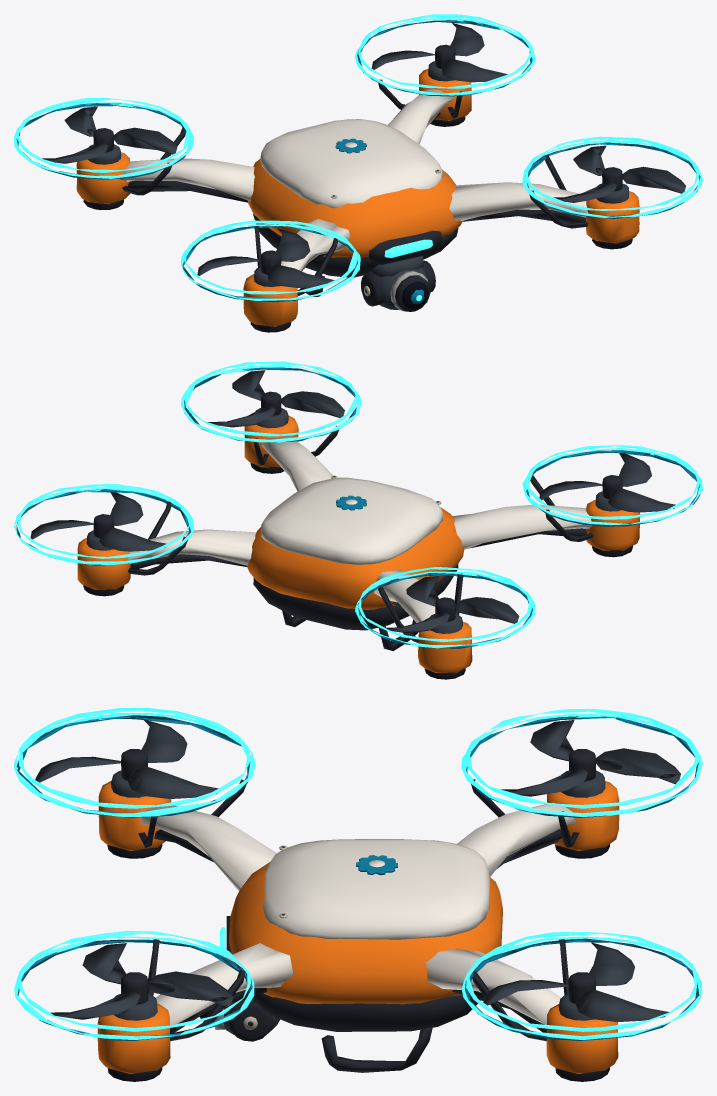
Rendered from drone.glb.
3 views of the same model, one above another, from view 1: azimuth 30°, elevation 25°; view 2: azimuth 150°, elevation 25°; view 3: azimuth 270°, elevation 25° (orthographic). The views are drawn at different scales.
Visible parts, largest first — view 1: Continuous hydroformed carbon spar, CNC orange motor case, Anodized lens mount, Cyan navigation focus, Blue anti-reflective objective, Twisted carbon-fiber rotor aerofoil.003, 3-axis camera pod, Twisted carbon-fiber rotor aerofoil.006, Twisted carbon-fiber rotor aerofoil, Twisted carbon-fiber rotor aerofoil.009; view 2: Continuous hydroformed carbon spar, CNC orange motor case, Cyan navigation focus, Anodized lens mount, Blue anti-reflective objective, Twisted carbon-fiber rotor aerofoil.003, Twisted carbon-fiber rotor aerofoil.006, Twisted carbon-fiber rotor aerofoil, Twisted carbon-fiber rotor aerofoil.009, 3-axis camera pod; view 3: Continuous hydroformed carbon spar, CNC orange motor case, Anodized lens mount, Cyan navigation focus, Blue anti-reflective objective, Twisted carbon-fiber rotor aerofoil.006, Twisted carbon-fiber rotor aerofoil.003, Twisted carbon-fiber rotor aerofoil.009, Twisted carbon-fiber rotor aerofoil, 3-axis camera pod.
Boxes of the visible parts, x1=… form: Continuous hydroformed carbon spar: x1=120, y1=88, x2=588, y2=271; CNC orange motor case: x1=76, y1=68, x2=639, y2=326; Anodized lens mount: x1=83, y1=44, x2=632, y2=332; Cyan navigation focus: x1=14, y1=14, x2=702, y2=300; Blue anti-reflective objective: x1=16, y1=20, x2=700, y2=304; Twisted carbon-fiber rotor aerofoil.003: x1=42, y1=106, x2=177, y2=163; 3-axis camera pod: x1=88, y1=61, x2=628, y2=309; Twisted carbon-fiber rotor aerofoil.006: x1=553, y1=145, x2=685, y2=202; Twisted carbon-fiber rotor aerofoil: x1=197, y1=228, x2=334, y2=287; Twisted carbon-fiber rotor aerofoil.009: x1=372, y1=23, x2=507, y2=82; Continuous hydroformed carbon spar: x1=127, y1=435, x2=591, y2=622; CNC orange motor case: x1=77, y1=415, x2=640, y2=672; Cyan navigation focus: x1=14, y1=361, x2=702, y2=648; Anodized lens mount: x1=83, y1=391, x2=632, y2=679; Blue anti-reflective objective: x1=16, y1=367, x2=700, y2=648; Twisted carbon-fiber rotor aerofoil.003: x1=380, y1=576, x2=519, y2=633; Twisted carbon-fiber rotor aerofoil.006: x1=208, y1=370, x2=344, y2=427; Twisted carbon-fiber rotor aerofoil: x1=539, y1=453, x2=675, y2=512; Twisted carbon-fiber rotor aerofoil.009: x1=30, y1=492, x2=166, y2=551; 3-axis camera pod: x1=86, y1=408, x2=621, y2=633; Continuous hydroformed carbon spar: x1=140, y1=802, x2=577, y2=1025; CNC orange motor case: x1=97, y1=781, x2=619, y2=1073; Anodized lens mount: x1=107, y1=749, x2=609, y2=1081; Cyan navigation focus: x1=14, y1=708, x2=702, y2=1039; Blue anti-reflective objective: x1=16, y1=715, x2=699, y2=1040; Twisted carbon-fiber rotor aerofoil.006: x1=50, y1=943, x2=233, y2=1019; Twisted carbon-fiber rotor aerofoil.003: x1=501, y1=720, x2=680, y2=796; Twisted carbon-fiber rotor aerofoil.009: x1=483, y1=942, x2=669, y2=1022; Twisted carbon-fiber rotor aerofoil: x1=35, y1=719, x2=218, y2=798; 3-axis camera pod: x1=111, y1=770, x2=605, y2=1034.
Size of the model in its own units: 0.75 by 0.1911 by 0.671.
8 materials, 8 textured.
